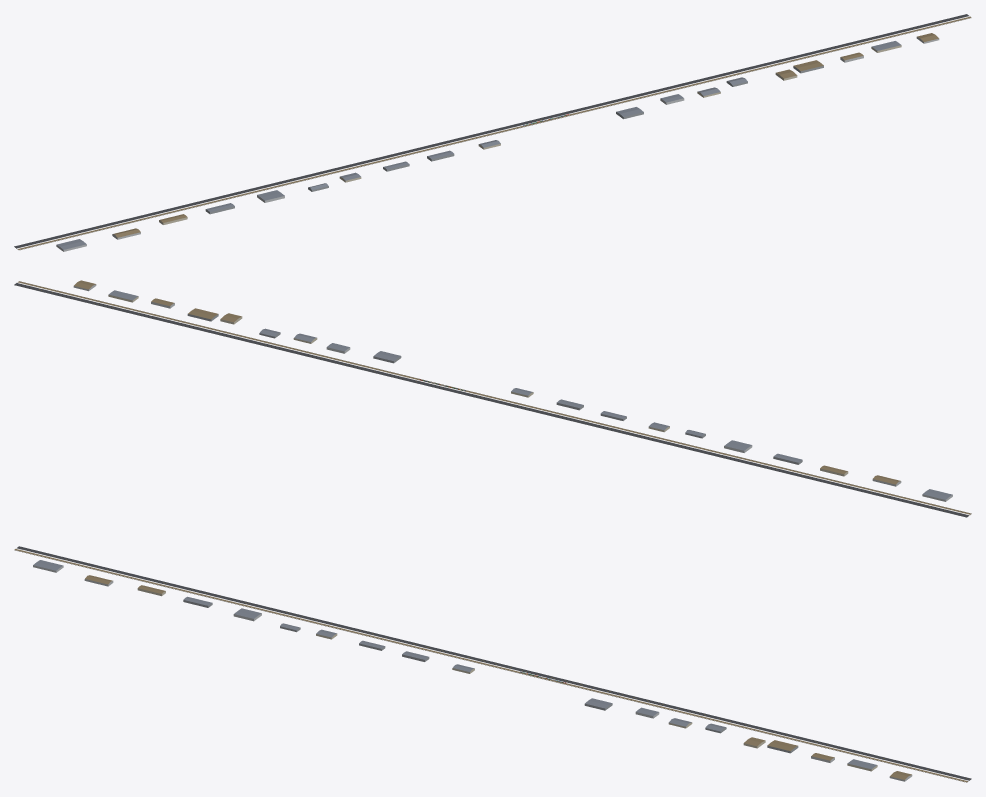
File: scenery-landside.glb
The picture shows the model from 3 angles, top to bottom: view 1: azimuth 30°, elevation 25°; view 2: azimuth 150°, elevation 25°; view 3: azimuth 330°, elevation 25°; orthographic projection.
Parts seen in each view (by area): view 1: landside; view 2: landside; view 3: landside.
Boxes of the visible parts, left/top/right/bottom form: landside: left=14, top=14, right=971, bottom=251; landside: left=14, top=280, right=971, bottom=517; landside: left=14, top=546, right=971, bottom=782.
Size of the model in its own units: 6000 by 19.78 by 247.
1 material, 1 textured.
